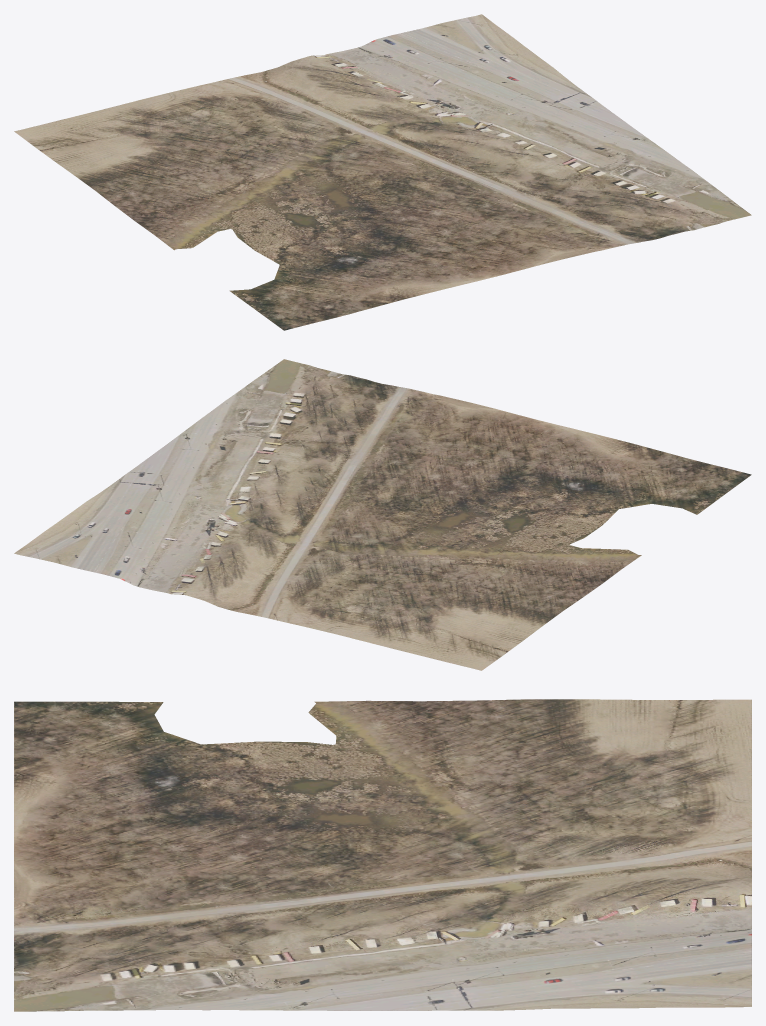
The model's file is CM_Terrain_24490663_6819180.fbx.
3 renders of one model, top to bottom at view 1: azimuth 30°, elevation 25°; view 2: azimuth 150°, elevation 25°; view 3: azimuth 270°, elevation 25°, orthographic. The views are drawn at different scales.
Visible parts, largest first — view 1: CM_Terrain_24490663_6819180_LOD0; view 2: CM_Terrain_24490663_6819180_LOD0; view 3: CM_Terrain_24490663_6819180_LOD0.
Boxes of the visible parts, box(x1,y1,x2,y2) form: CM_Terrain_24490663_6819180_LOD0: box(14, 14, 751, 330); CM_Terrain_24490663_6819180_LOD0: box(14, 359, 751, 670); CM_Terrain_24490663_6819180_LOD0: box(14, 699, 751, 1011).
Size of what is drawn, in the model's own units: 205 by 2.98 by 205.
